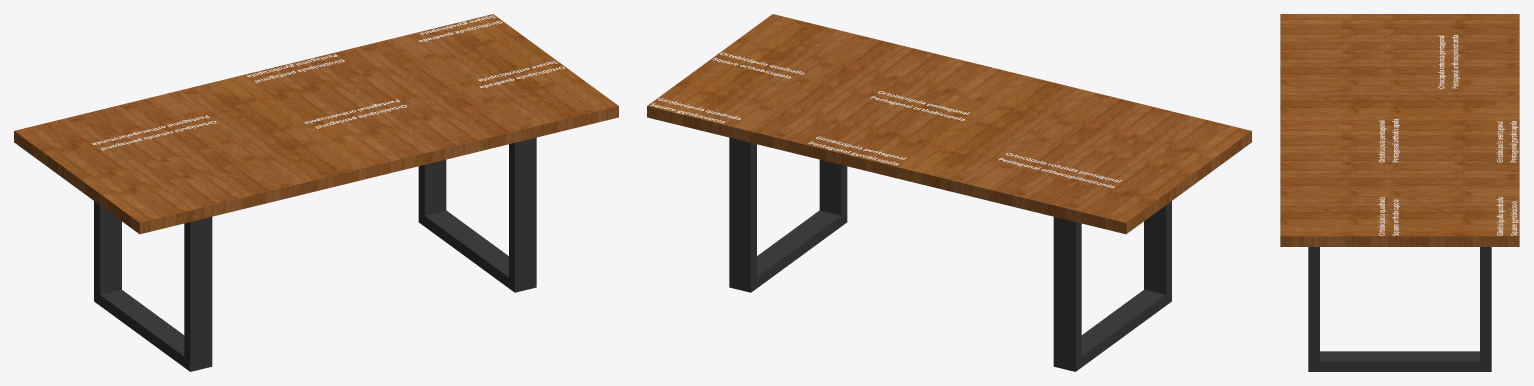
The model's file is johnson1f.glb.
3 renders of one model, left to right at view 1: azimuth 30°, elevation 25°; view 2: azimuth 150°, elevation 25°; view 3: azimuth 270°, elevation 25°, orthographic. The views are drawn at different scales.
Visible parts, largest first — view 1: object 1, Composant#1 (×2), Ortocúpula rotun; view 2: object 1, Composant#1 (×2), Ortocúpula rotun; view 3: object 1, Composant#1, Ortocúpula rotun, Ortobicúpula pen, Girobicúpula pen, Ortobicúpula qua, Girobicúpula qua.
Part boxes in pixels (<box>): object 1: <box>14,14,618,234</box>; Composant#1 (×2): <box>94,137,536,371</box>; Ortocúpula rotun: <box>92,115,216,150</box>; object 1: <box>647,14,1251,234</box>; Composant#1 (×2): <box>729,137,1171,371</box>; Ortocúpula rotun: <box>998,153,1121,187</box>; object 1: <box>1280,14,1519,246</box>; Composant#1: <box>1308,247,1491,371</box>; Ortocúpula rotun: <box>1438,35,1459,88</box>; Ortobicúpula pen: <box>1378,119,1400,162</box>; Girobicúpula pen: <box>1496,121,1518,162</box>; Ortobicúpula qua: <box>1378,197,1399,235</box>; Girobicúpula qua: <box>1496,197,1518,235</box>.
Bounding box in the file's own units: 2.2 × 0.771 × 1.
3 materials, 1 textured.
